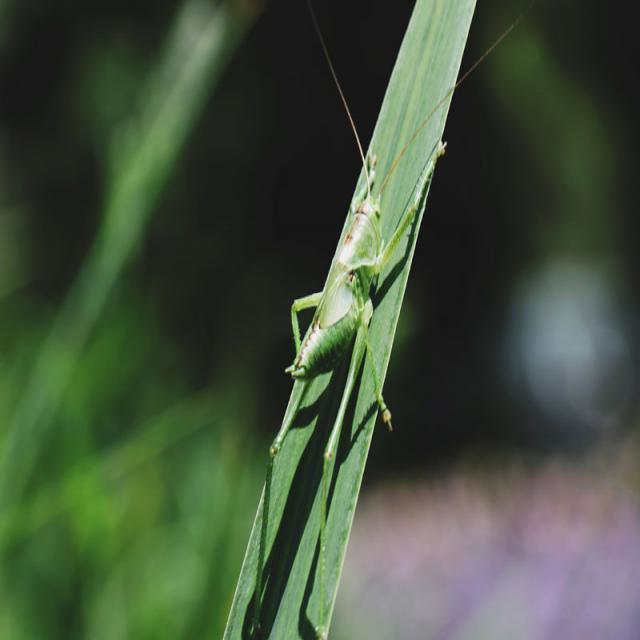ZhaMeng: (272, 81, 408, 604)
